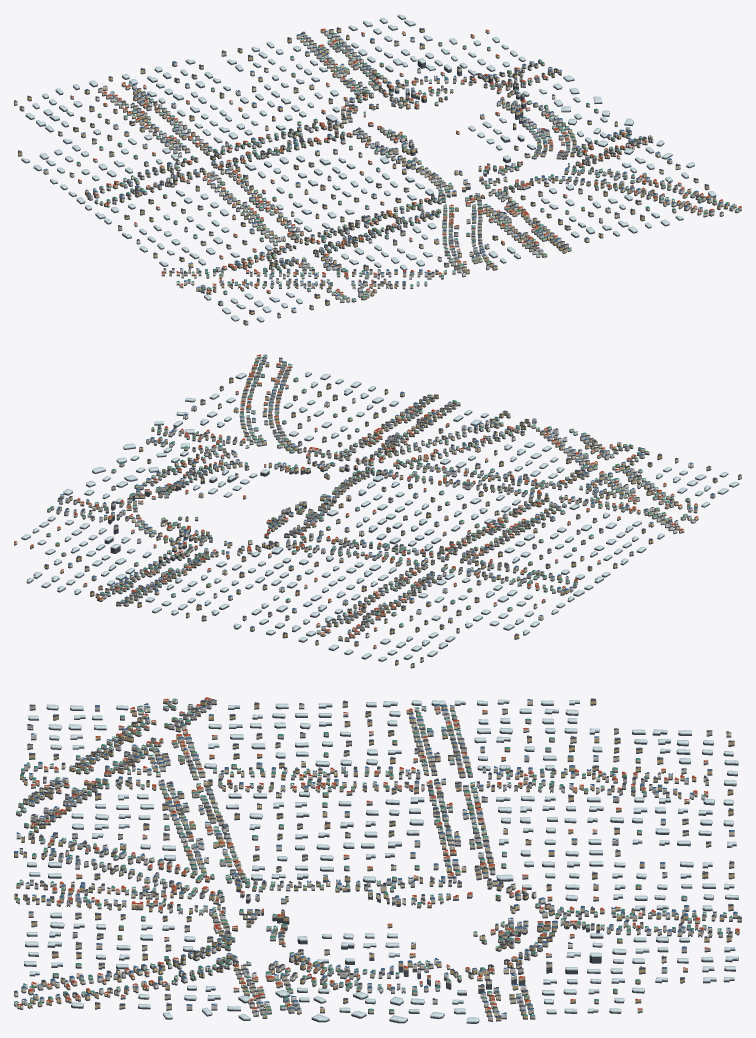
File: osm_buildings_T_E00_N02.glb
The picture shows the model from 3 angles, top to bottom: view 1: azimuth 30°, elevation 25°; view 2: azimuth 150°, elevation 25°; view 3: azimuth 270°, elevation 25°; orthographic projection. The views are drawn at different scales.
Parts seen in each view (by area): view 1: OSM_T_E00_N02_foundation, OSM_T_E00_N02_greenhouse_blend, OSM_T_E00_N02_wall_french_ochre, OSM_T_E00_N02_wall_cream_stucco, OSM_T_E00_N02_wall_warm_white, OSM_T_E00_N02_wall_pastel_sand, OSM_T_E00_N02_roof_mansard_slate, OSM_T_E00_N02_roof_alpine_blue, OSM_T_E00_N02_roof_mint_metal, OSM_T_E00_N02_roof_terracotta, OSM_T_E00_N02_roof_mansard_deck; view 2: OSM_T_E00_N02_foundation, OSM_T_E00_N02_greenhouse_blend, OSM_T_E00_N02_wall_cream_stucco, OSM_T_E00_N02_wall_french_ochre, OSM_T_E00_N02_wall_warm_white, OSM_T_E00_N02_wall_pastel_sand, OSM_T_E00_N02_roof_mansard_slate, OSM_T_E00_N02_roof_alpine_blue, OSM_T_E00_N02_roof_mint_metal, OSM_T_E00_N02_roof_terracotta, OSM_T_E00_N02_roof_mansard_deck; view 3: OSM_T_E00_N02_foundation, OSM_T_E00_N02_greenhouse_blend, OSM_T_E00_N02_wall_french_ochre, OSM_T_E00_N02_wall_cream_stucco, OSM_T_E00_N02_roof_mansard_slate, OSM_T_E00_N02_wall_warm_white, OSM_T_E00_N02_wall_pastel_sand, OSM_T_E00_N02_roof_alpine_blue, OSM_T_E00_N02_roof_mint_metal, OSM_T_E00_N02_roof_terracotta, OSM_T_E00_N02_roof_mansard_deck.
Boxes of the visible parts, x1,y1,x2,y2 form: OSM_T_E00_N02_foundation: (14, 16, 741, 325); OSM_T_E00_N02_greenhouse_blend: (21, 14, 716, 321); OSM_T_E00_N02_wall_french_ochre: (18, 28, 736, 313); OSM_T_E00_N02_wall_cream_stucco: (14, 30, 741, 301); OSM_T_E00_N02_wall_warm_white: (93, 31, 739, 312); OSM_T_E00_N02_wall_pastel_sand: (19, 32, 733, 324); OSM_T_E00_N02_roof_mansard_slate: (14, 27, 723, 321); OSM_T_E00_N02_roof_alpine_blue: (43, 30, 732, 309); OSM_T_E00_N02_roof_mint_metal: (76, 33, 738, 299); OSM_T_E00_N02_roof_terracotta: (70, 28, 741, 293); OSM_T_E00_N02_roof_mansard_deck: (19, 27, 708, 310); OSM_T_E00_N02_foundation: (14, 357, 741, 668); OSM_T_E00_N02_greenhouse_blend: (21, 371, 739, 660); OSM_T_E00_N02_wall_cream_stucco: (14, 355, 697, 667); OSM_T_E00_N02_wall_french_ochre: (30, 358, 717, 664); OSM_T_E00_N02_wall_warm_white: (59, 355, 695, 637); OSM_T_E00_N02_wall_pastel_sand: (47, 357, 741, 661); OSM_T_E00_N02_roof_mansard_slate: (44, 357, 741, 664); OSM_T_E00_N02_roof_alpine_blue: (56, 356, 714, 642); OSM_T_E00_N02_roof_mint_metal: (46, 354, 697, 631); OSM_T_E00_N02_roof_terracotta: (14, 354, 698, 646); OSM_T_E00_N02_roof_mansard_deck: (45, 375, 716, 634); OSM_T_E00_N02_foundation: (14, 701, 741, 1023); OSM_T_E00_N02_greenhouse_blend: (24, 699, 738, 1022); OSM_T_E00_N02_wall_french_ochre: (14, 700, 739, 1020); OSM_T_E00_N02_wall_cream_stucco: (16, 699, 741, 1016); OSM_T_E00_N02_roof_mansard_slate: (14, 699, 741, 1017); OSM_T_E00_N02_wall_warm_white: (14, 699, 730, 1017); OSM_T_E00_N02_wall_pastel_sand: (16, 705, 732, 1020); OSM_T_E00_N02_roof_alpine_blue: (14, 699, 737, 1016); OSM_T_E00_N02_roof_mint_metal: (14, 698, 732, 1016); OSM_T_E00_N02_roof_terracotta: (17, 697, 739, 1009); OSM_T_E00_N02_roof_mansard_deck: (24, 698, 741, 1016).
Size of the model in its own units: 1981 by 68.81 by 1941.
